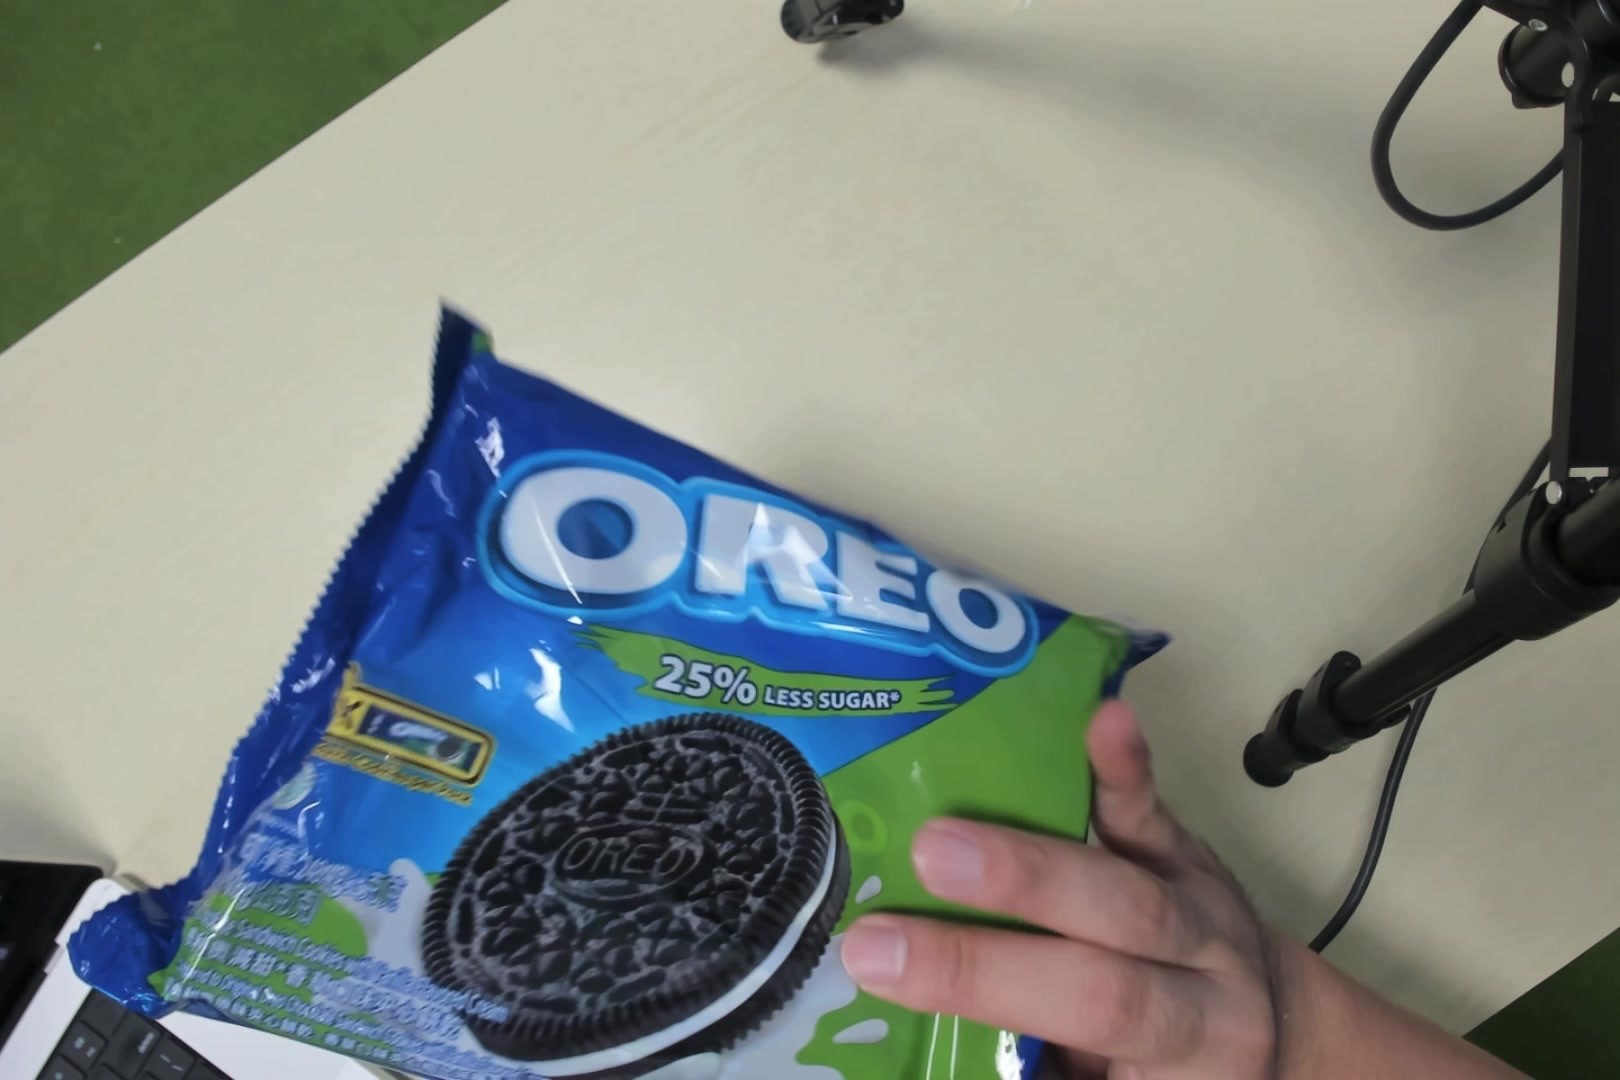SweetsChocolatesOthers_200-299g_Halal_NonHealthy: (258, 378, 1006, 1028)
